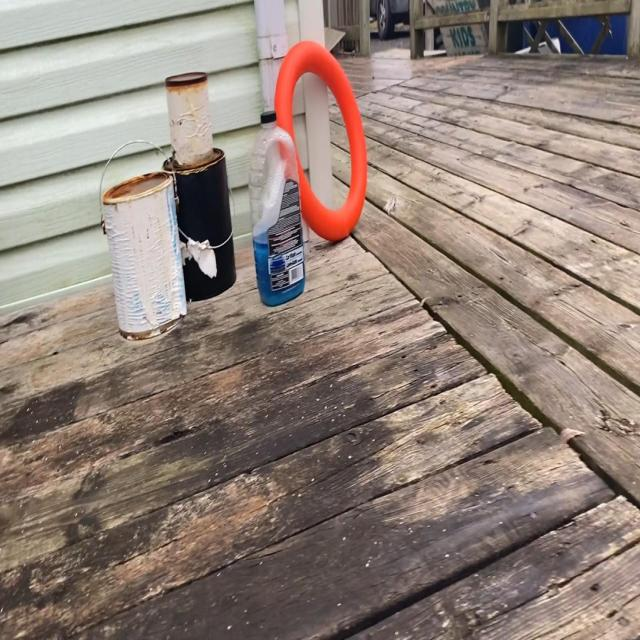note: (274, 36, 369, 248)
